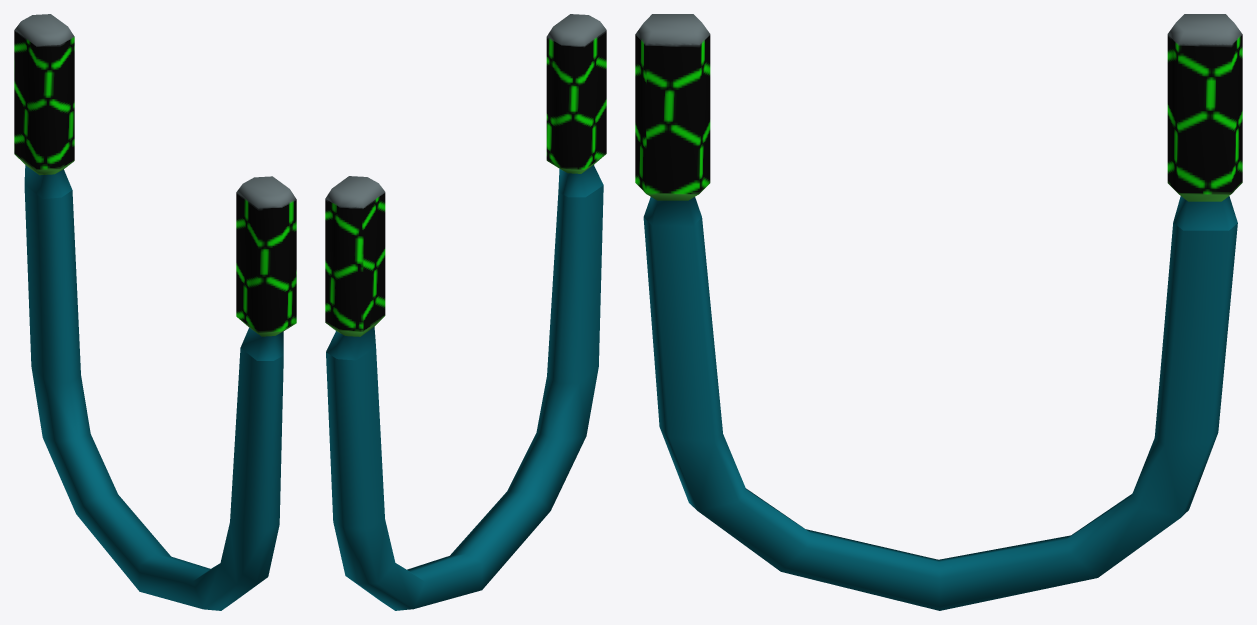
The model's file is SM_Cord_02.fbx.
The picture shows the model from 3 angles, left to right: view 1: azimuth 30°, elevation 25°; view 2: azimuth 150°, elevation 25°; view 3: azimuth 270°, elevation 25°; orthographic projection. The views are drawn at different scales.
Visible parts, largest first — view 1: SM_Cord_02; view 2: SM_Cord_02; view 3: SM_Cord_02.
Part boxes in pixels (x1=…): SM_Cord_02: x1=14, y1=14, x2=296, y2=610; SM_Cord_02: x1=325, y1=14, x2=606, y2=610; SM_Cord_02: x1=635, y1=14, x2=1242, y2=610.
Size of the model in its own units: 4.64 by 50.13 by 53.34.
Materials: 1 (1 with a texture image).
